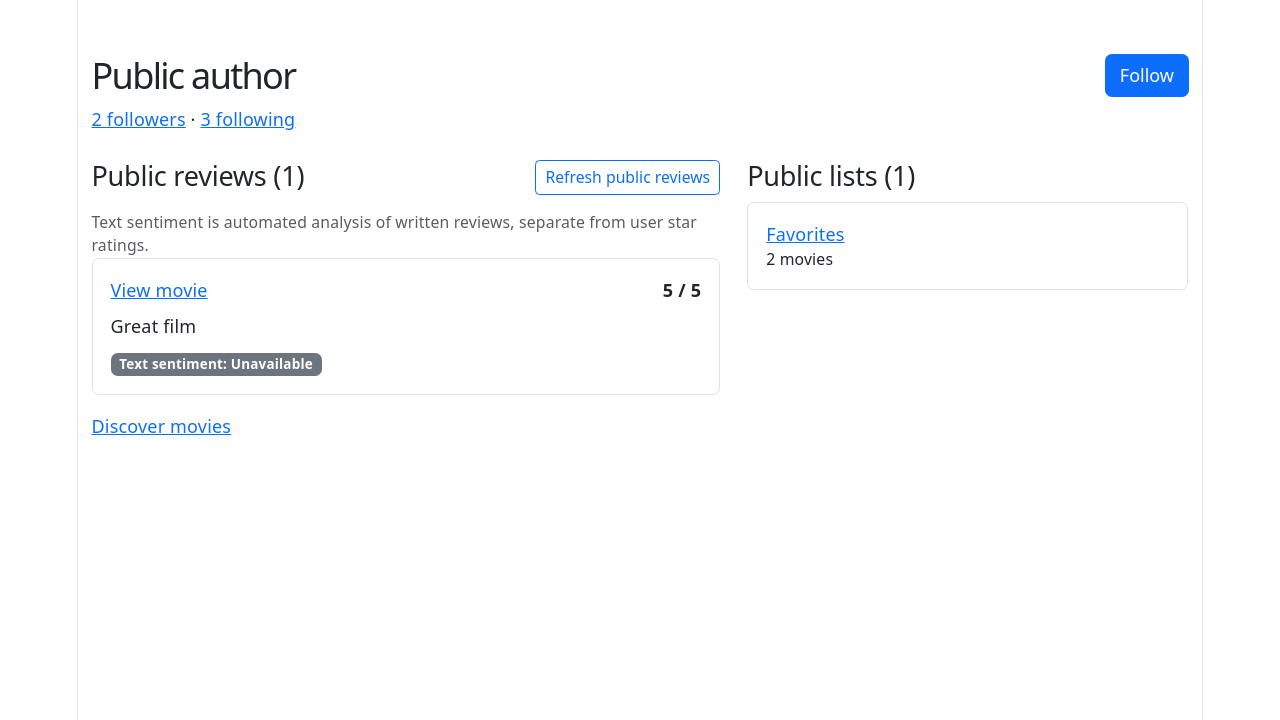
Test: keeps counts unchanged when following fails and permits retry
This screenshot has width=1280, height=720.
What coordinates should you click on to do the following:
click the button "Follow"
I would click on:
 (1147, 75)
Its box is [1105,54,1188,96].
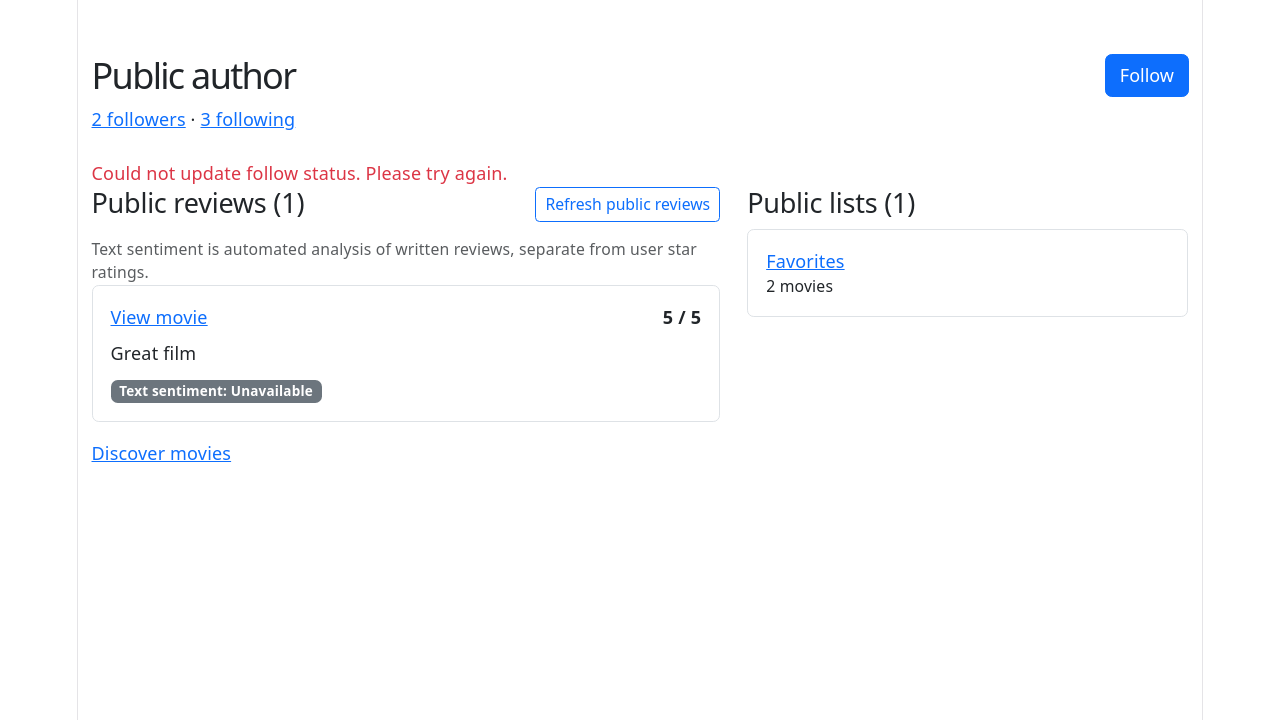
Expected: the link "2 followers" is shown, [92,107,186,131]
Expected: the message shows "Could not update follow status", [92,161,508,185]
